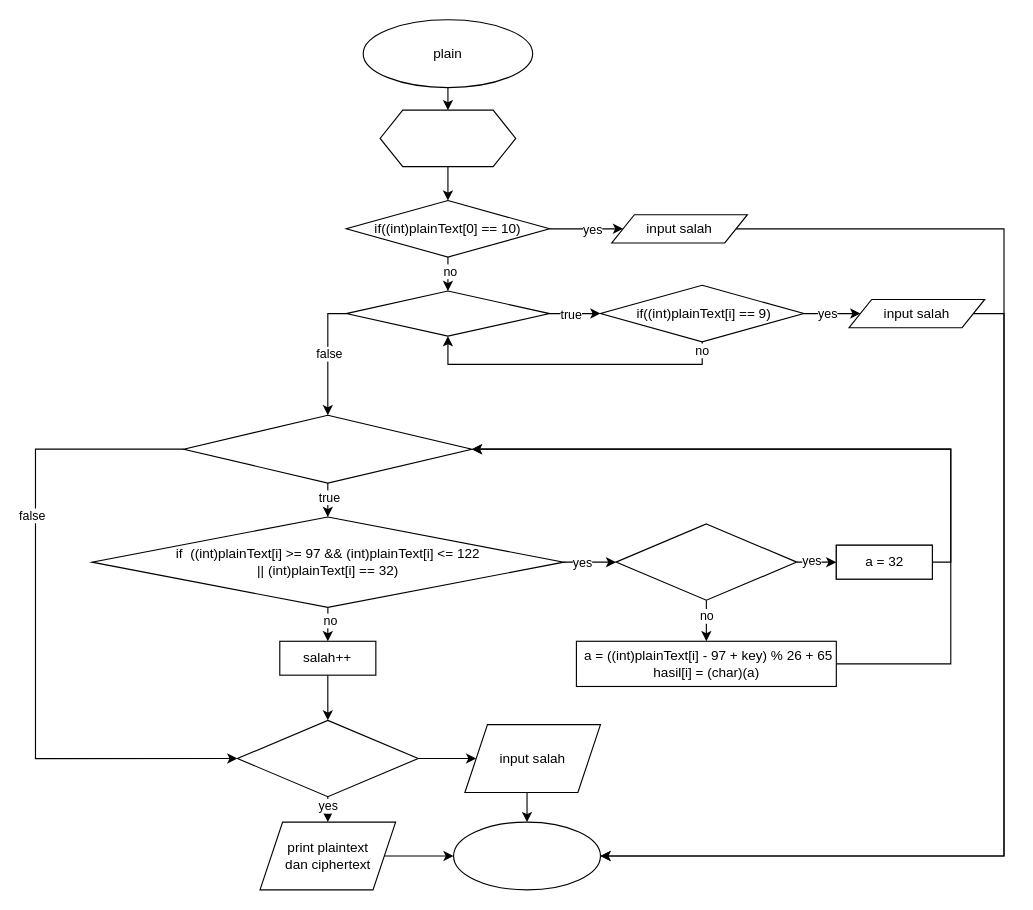
Image size: 1033x910. Some labels were removed from this diagram. Here are the shapes that lost their labels. From the top down, the centre of each, then its label:
At point (447, 138): "int a, salah char hasil".
At point (447, 313): "for (int i = 0; i < 4; i++ )".
At point (327, 448): "for (int i = 0; i < strlen(plainText)-1;i++)".
At point (706, 561): "if((int)plainText[i] == 32)".
At point (327, 758): "if salah = 0".
At point (526, 855): "SELESAI".
